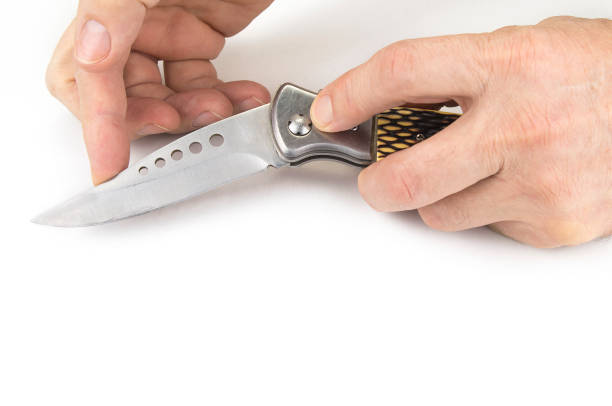knife: (28, 99, 292, 230)
